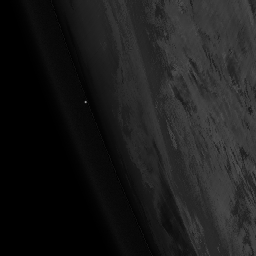Target: (83, 99, 88, 104)
